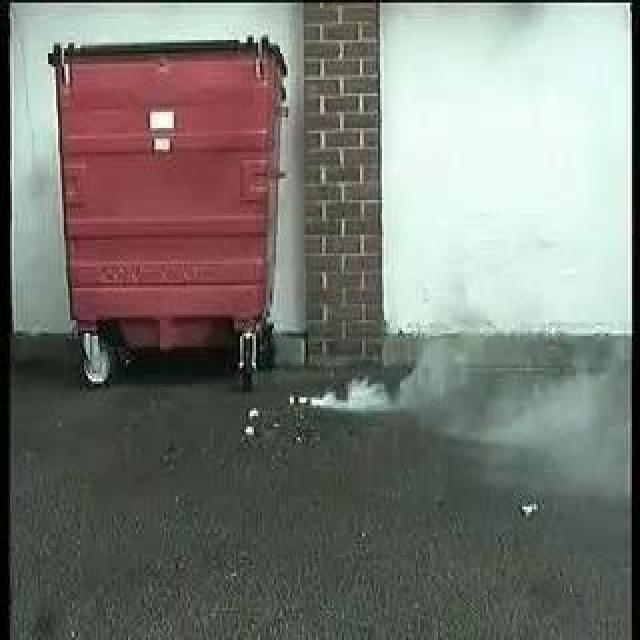Smoke: (309, 338, 465, 426)
